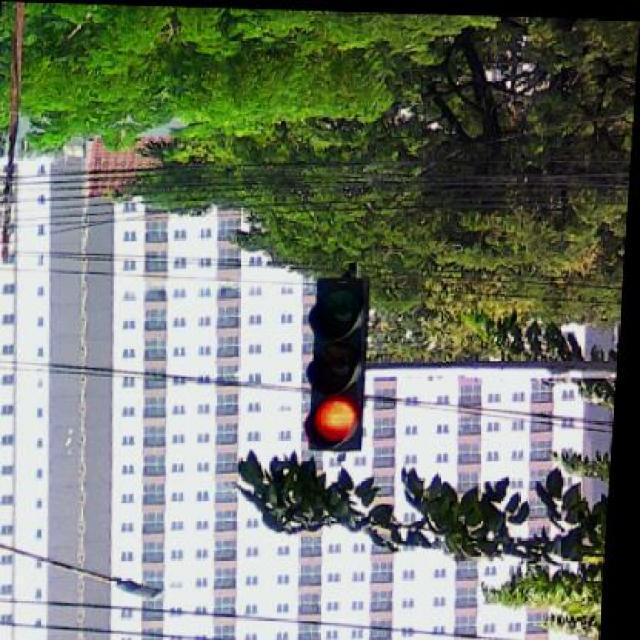traffic light: (304, 277, 369, 453)
